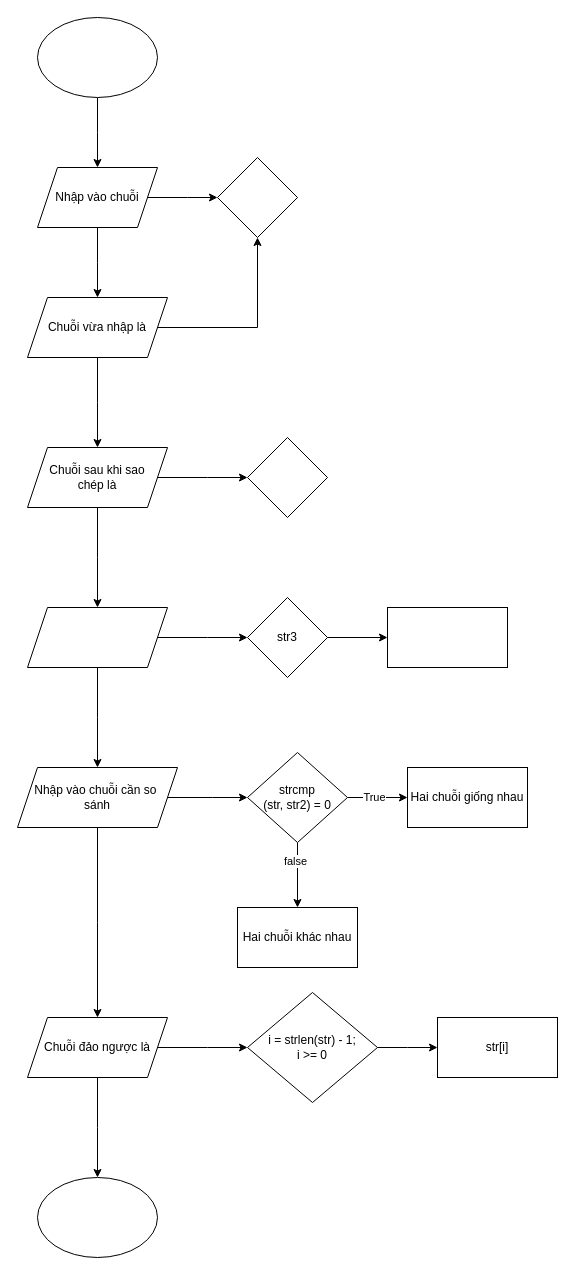
This 575x1275 diagram has some shape labels left out. Each missing label, with the centre of its shape:
Chuỗi sau khi thêm là: strcat(str, str3): (447,637)
End: (97,1217)
Nhập vào chuỗi cần thêm: (97,637)
start: (97,57)
str: (257,197)
strcpy (str2, str): (287,477)
